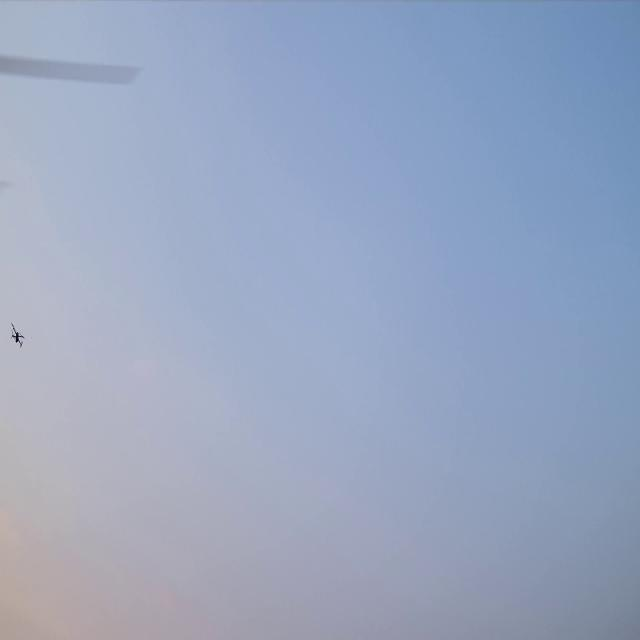UAV: (12, 326, 22, 346)
